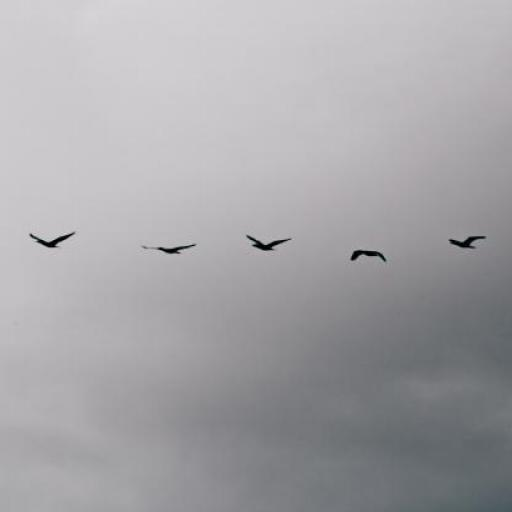bird: (246, 234, 291, 251), (29, 232, 75, 248), (143, 243, 196, 255), (448, 236, 486, 249), (350, 249, 387, 262)
